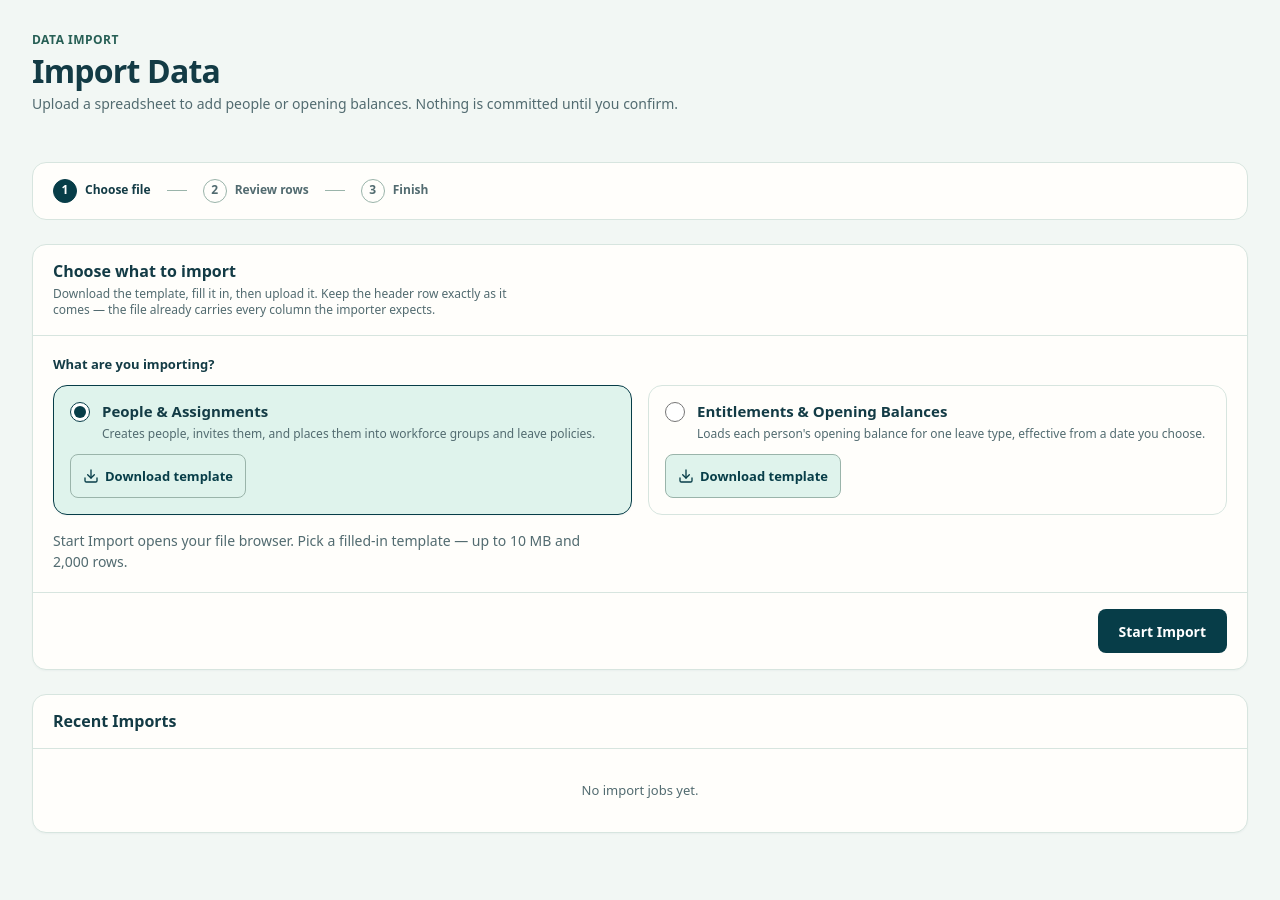
it: ImportWizardPage › surfaces a failed template download instead of saving an error body
Click the button with test id "import-template-download-PEOPLE_AND_ASSIGNMENTS". click: x=158, y=476
box: x1=70 y1=454 x2=246 y2=498
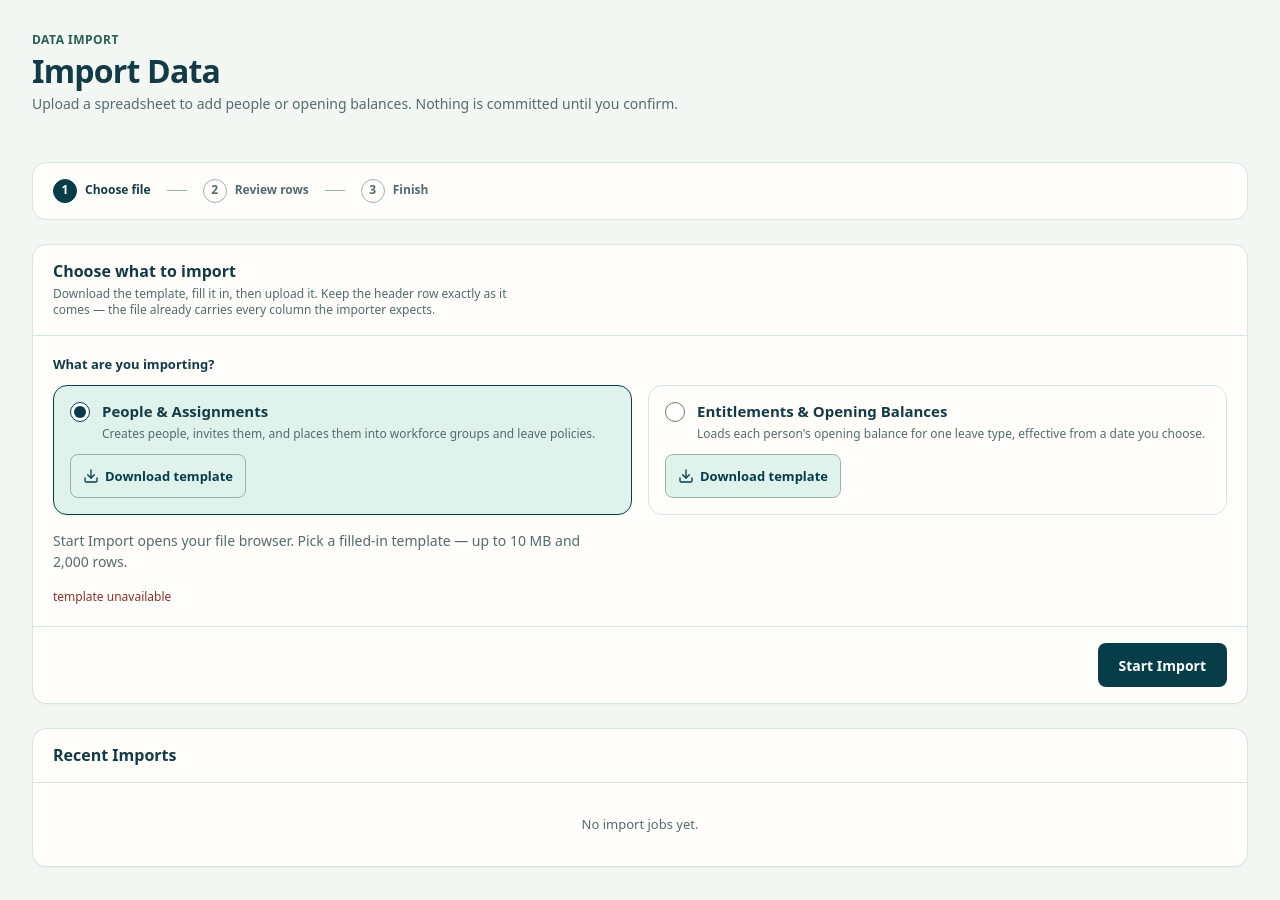
Result: the message with test id "import-template-error" reads "template unavailable" at x1=53 y1=588 x2=171 y2=605
